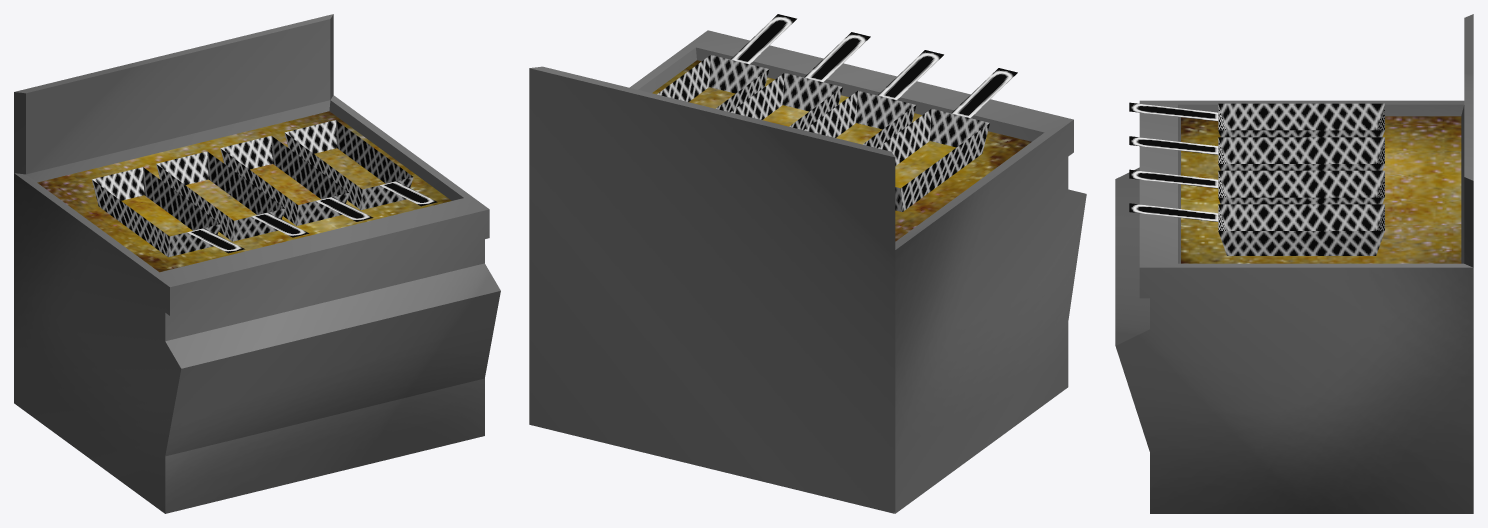
Rendered from deepfryer.fbx.
The picture shows the model from 3 angles, left to right: view 1: azimuth 30°, elevation 25°; view 2: azimuth 150°, elevation 25°; view 3: azimuth 270°, elevation 25°; orthographic projection. The views are drawn at different scales.
Visible parts, largest first — view 1: DeppFryer, Basket.003, Basket, Basket.002, Basket.001; view 2: DeppFryer, Basket.003, Basket, Basket.002, Basket.001; view 3: DeppFryer, Basket, Basket.001, Basket.003, Basket.002.
Part boxes in pixels (x1,y1,x2,y2): DeppFryer: (14,14,500,513); Basket.003: (92,167,244,257); Basket: (284,120,437,210); Basket.002: (156,151,309,241); Basket.001: (220,135,373,225); DeppFryer: (529,30,1086,513); Basket.003: (878,68,1017,211); Basket: (657,14,796,112); Basket.002: (804,50,943,148); Basket.001: (731,32,870,130); DeppFryer: (1115,14,1473,513); Basket: (1129,203,1384,255); Basket.001: (1129,169,1384,204); Basket.003: (1129,102,1384,137); Basket.002: (1129,136,1384,170).
Size of the model in its own units: 200 by 186 by 181.
